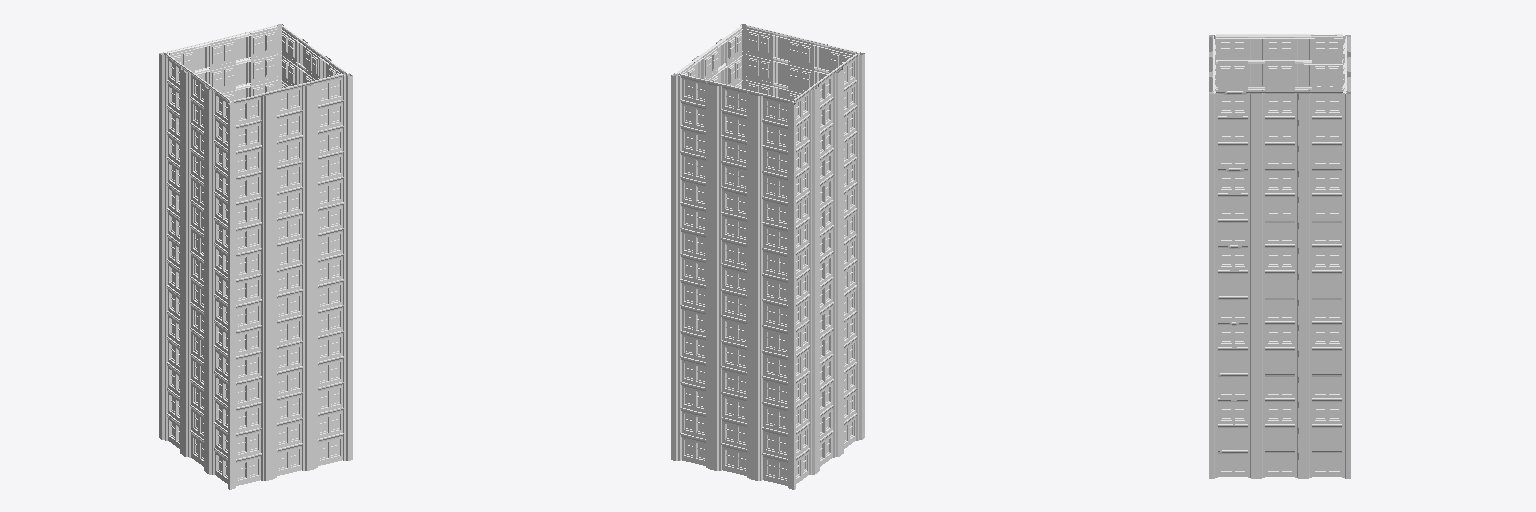
File: half_city_1_LOD_1.obj
3 views of the same model, side by side, from view 1: azimuth 30°, elevation 25°; view 2: azimuth 150°, elevation 25°; view 3: azimuth 270°, elevation 25° (orthographic).
Parts seen in each view (by area): view 1: SM_Bld_OfficeOld_Large_Floor_01__11__Scene.024, SM_Bld_OfficeOld_Large_Floor_01__10__Scene.024, SM_Bld_OfficeOld_Large_Floor_01__9__Scene.024, SM_Bld_OfficeOld_Large_Floor_01__15__Scene.024, SM_Bld_OfficeOld_Large_Floor_01__3__Scene.024, SM_Bld_OfficeOld_Large_Floor_01_Scene.024, SM_Bld_OfficeOld_Large_Floor_01__6__Scene.024, SM_Bld_OfficeOld_Large_Floor_01__1__Scene.024, SM_Bld_OfficeOld_Large_Floor_01__4__Scene.024, SM_Bld_OfficeOld_Large_Floor_01__7__Scene.024, SM_Bld_OfficeOld_Large_Floor_01__5__Scene.024, SM_Bld_OfficeOld_Large_Floor_01__13__Scene.024 (+3 smaller); view 2: SM_Bld_OfficeOld_Large_Floor_01__11__Scene.024, SM_Bld_OfficeOld_Large_Floor_01__10__Scene.024, SM_Bld_OfficeOld_Large_Floor_01__9__Scene.024, SM_Bld_OfficeOld_Large_Floor_01__15__Scene.024, SM_Bld_OfficeOld_Large_Floor_01__3__Scene.024, SM_Bld_OfficeOld_Large_Floor_01__6__Scene.024, SM_Bld_OfficeOld_Large_Floor_01_Scene.024, SM_Bld_OfficeOld_Large_Floor_01__13__Scene.024, SM_Bld_OfficeOld_Large_Floor_01__8__Scene.024, SM_Bld_OfficeOld_Large_Floor_01__1__Scene.024, SM_Bld_OfficeOld_Large_Floor_01__4__Scene.024, SM_Bld_OfficeOld_Large_Floor_01__5__Scene.024 (+3 smaller); view 3: SM_Bld_OfficeOld_Large_Floor_01__11__Scene.024, SM_Bld_OfficeOld_Large_Floor_01__10__Scene.024, SM_Bld_OfficeOld_Large_Floor_01__9__Scene.024, SM_Bld_OfficeOld_Large_Floor_01__15__Scene.024, SM_Bld_OfficeOld_Large_Floor_01__7__Scene.024, SM_Bld_OfficeOld_Large_Floor_01__5__Scene.024, SM_Bld_OfficeOld_Large_Floor_01__4__Scene.024, SM_Bld_OfficeOld_Large_Floor_01__2__Scene.024, SM_Bld_OfficeOld_Large_Floor_01__12__Scene.024, SM_Bld_OfficeOld_Large_Floor_01__13__Scene.024, SM_Bld_OfficeOld_Large_Floor_01__1__Scene.024, SM_Bld_OfficeOld_Large_Floor_01_Scene.024 (+3 smaller).
Part boxes in pixels (bbox=[...]): SM_Bld_OfficeOld_Large_Floor_01__11__Scene.024: bbox=[159, 24, 352, 130]; SM_Bld_OfficeOld_Large_Floor_01__10__Scene.024: bbox=[159, 49, 352, 155]; SM_Bld_OfficeOld_Large_Floor_01__9__Scene.024: bbox=[159, 75, 352, 181]; SM_Bld_OfficeOld_Large_Floor_01__15__Scene.024: bbox=[159, 413, 352, 489]; SM_Bld_OfficeOld_Large_Floor_01__3__Scene.024: bbox=[159, 259, 352, 335]; SM_Bld_OfficeOld_Large_Floor_01_Scene.024: bbox=[159, 336, 352, 412]; SM_Bld_OfficeOld_Large_Floor_01__6__Scene.024: bbox=[159, 182, 352, 258]; SM_Bld_OfficeOld_Large_Floor_01__1__Scene.024: bbox=[159, 310, 352, 386]; SM_Bld_OfficeOld_Large_Floor_01__4__Scene.024: bbox=[159, 233, 352, 309]; SM_Bld_OfficeOld_Large_Floor_01__7__Scene.024: bbox=[159, 156, 352, 232]; SM_Bld_OfficeOld_Large_Floor_01__5__Scene.024: bbox=[159, 207, 352, 284]; SM_Bld_OfficeOld_Large_Floor_01__13__Scene.024: bbox=[159, 387, 352, 463]; SM_Bld_OfficeOld_Large_Floor_01__11__Scene.024: bbox=[671, 24, 864, 130]; SM_Bld_OfficeOld_Large_Floor_01__10__Scene.024: bbox=[671, 49, 864, 156]; SM_Bld_OfficeOld_Large_Floor_01__9__Scene.024: bbox=[671, 75, 864, 181]; SM_Bld_OfficeOld_Large_Floor_01__15__Scene.024: bbox=[671, 413, 864, 489]; SM_Bld_OfficeOld_Large_Floor_01__3__Scene.024: bbox=[671, 259, 864, 335]; SM_Bld_OfficeOld_Large_Floor_01__6__Scene.024: bbox=[671, 182, 864, 258]; SM_Bld_OfficeOld_Large_Floor_01_Scene.024: bbox=[671, 336, 864, 412]; SM_Bld_OfficeOld_Large_Floor_01__13__Scene.024: bbox=[671, 387, 864, 463]; SM_Bld_OfficeOld_Large_Floor_01__8__Scene.024: bbox=[671, 131, 864, 207]; SM_Bld_OfficeOld_Large_Floor_01__1__Scene.024: bbox=[671, 310, 864, 386]; SM_Bld_OfficeOld_Large_Floor_01__4__Scene.024: bbox=[671, 233, 864, 309]; SM_Bld_OfficeOld_Large_Floor_01__5__Scene.024: bbox=[671, 208, 864, 284]; SM_Bld_OfficeOld_Large_Floor_01__11__Scene.024: bbox=[1209, 34, 1350, 119]; SM_Bld_OfficeOld_Large_Floor_01__10__Scene.024: bbox=[1209, 60, 1350, 145]; SM_Bld_OfficeOld_Large_Floor_01__9__Scene.024: bbox=[1209, 86, 1350, 170]; SM_Bld_OfficeOld_Large_Floor_01__15__Scene.024: bbox=[1209, 450, 1350, 478]; SM_Bld_OfficeOld_Large_Floor_01__7__Scene.024: bbox=[1209, 193, 1350, 222]; SM_Bld_OfficeOld_Large_Floor_01__5__Scene.024: bbox=[1209, 244, 1350, 273]; SM_Bld_OfficeOld_Large_Floor_01__4__Scene.024: bbox=[1209, 270, 1350, 299]; SM_Bld_OfficeOld_Large_Floor_01__2__Scene.024: bbox=[1209, 321, 1350, 350]; SM_Bld_OfficeOld_Large_Floor_01__12__Scene.024: bbox=[1209, 398, 1350, 427]; SM_Bld_OfficeOld_Large_Floor_01__13__Scene.024: bbox=[1209, 424, 1350, 452]; SM_Bld_OfficeOld_Large_Floor_01__1__Scene.024: bbox=[1209, 347, 1350, 376]; SM_Bld_OfficeOld_Large_Floor_01_Scene.024: bbox=[1209, 373, 1350, 401].
Size of the model in its own units: 14.99 by 45.2 by 14.99.